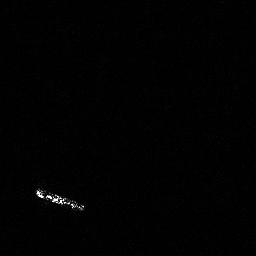ship: (32, 183, 87, 214)
